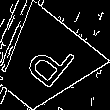P_SW: (13, 33, 75, 95)
